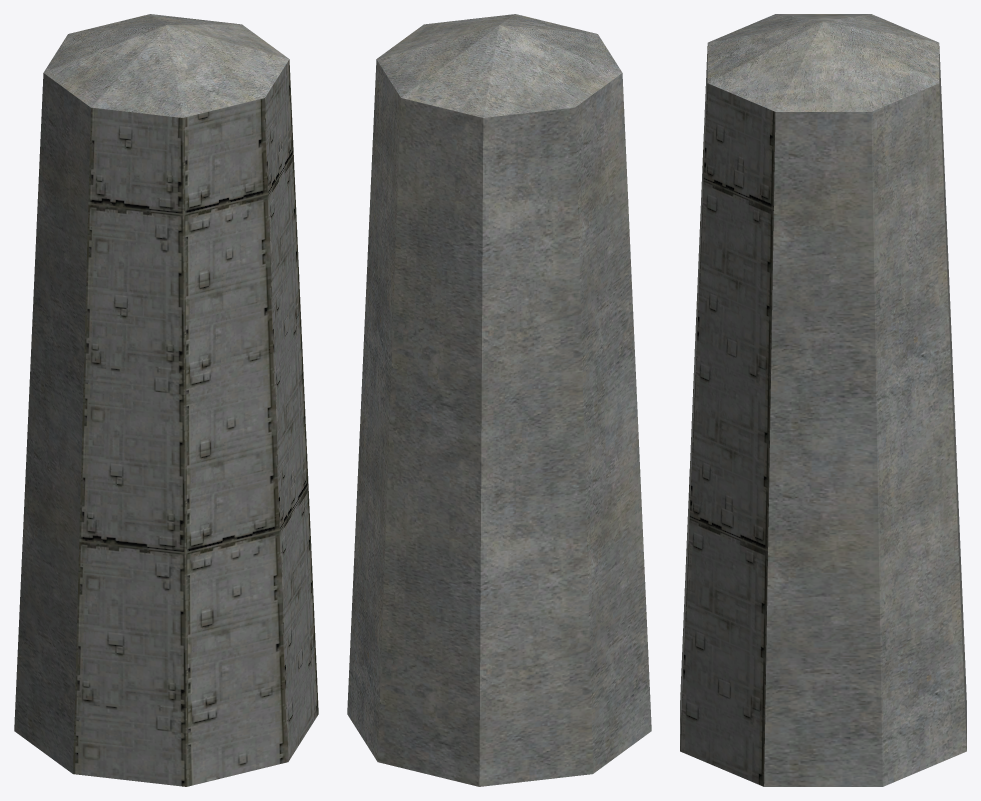
Rendered from mun_all_military_column_strong_impl_s01_l1.fbx.
The picture shows the model from 3 angles, left to right: view 1: azimuth 30°, elevation 25°; view 2: azimuth 150°, elevation 25°; view 3: azimuth 270°, elevation 25°; orthographic projection.
Parts seen in each view (by area): view 1: mesh_node; view 2: mesh_node; view 3: mesh_node.
Part boxes in pixels (x1,y1,x2,y2): mesh_node: (14,14,318,786); mesh_node: (347,14,651,786); mesh_node: (680,14,966,786).
Size of the model in its own units: 2.73 by 7.4 by 2.73.
